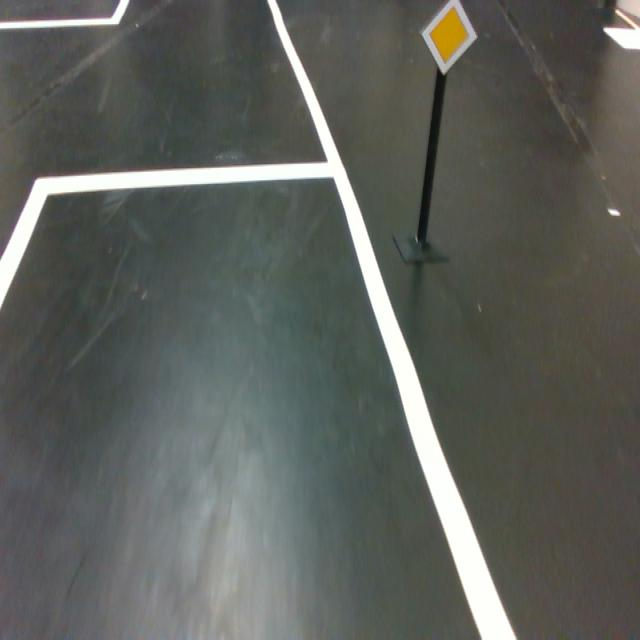priority-sign: (420, 0, 479, 76)
